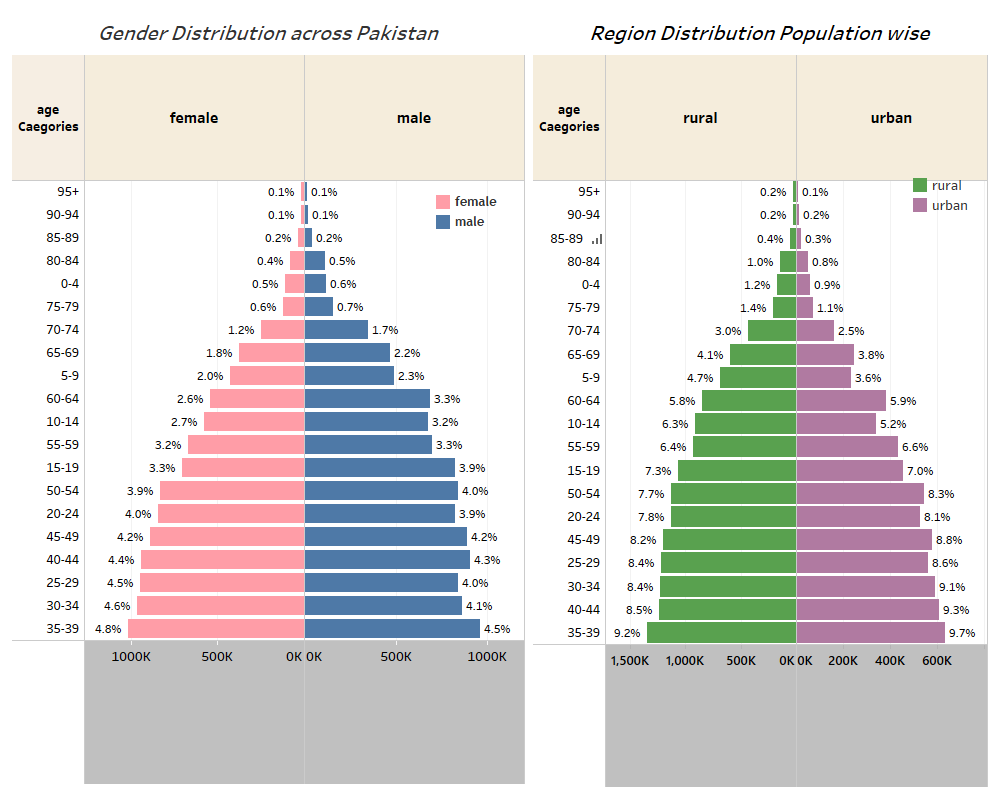

Layout of this report page (visuals, bound fields, positions):
{"tool":"tableau","page":{"name":"Dashboard 1","canvas":[1000,800],"ordinal":0},"visuals":[{"type":"worksheet","title":"Sheet 1","mark":"Automatic","rows":["Calculation_706783732266205186"],"cols":["sb1q4","Calculation_706783732267479043"],"box":[8,8,404,784]},{"type":"worksheet","title":"Sheet 2","mark":"Automatic","rows":["Calculation_706783732266205186"],"cols":["region","Calculation_706783732277391365"],"box":[412,8,420,784]},{"type":"filter","title":"Sheet 1","param":"[federated.0evfln8040knqv120gl0z12rpu2e].[none:district:nk]","box":[833,56,160,125]},{"type":"legend","title":"Sheet 1","param":"[federated.0evfln8040knqv120gl0z12rpu2e].[none:sb1q4:nk]","box":[323,187,72,66]},{"type":"legend","title":"Sheet 2","param":"[federated.0evfln8040knqv120gl0z12rpu2e].[none:region:nk]","box":[713,191,108,67]},{"type":"filter","title":"Sheet 2","param":"[federated.0evfln8040knqv120gl0z12rpu2e].[none:province:nk]","box":[834,194,163,127]}]}

Visuals, with their boxes in screenshot pixels (x1, y1, x2, y2), scaled from the page's 1000x800 canvas onto the 1000x800 screenshot:
"Sheet 1" worksheet: x1=8 y1=8 x2=412 y2=792
"Sheet 2" worksheet: x1=412 y1=8 x2=832 y2=792
"Sheet 1" filter: x1=833 y1=56 x2=993 y2=181
"Sheet 1" legend: x1=323 y1=187 x2=395 y2=253
"Sheet 2" legend: x1=713 y1=191 x2=821 y2=258
"Sheet 2" filter: x1=834 y1=194 x2=997 y2=321
